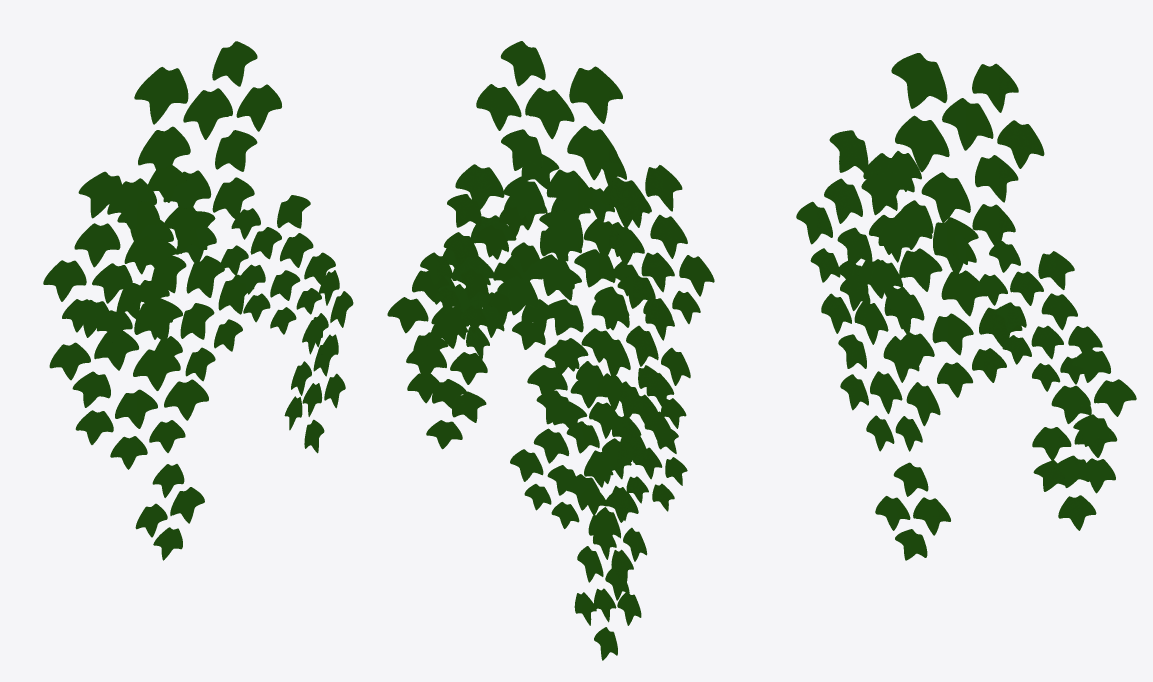
Rendered from Prop_Vine1.glb.
3 renders of one model, left to right at view 1: azimuth 30°, elevation 25°; view 2: azimuth 150°, elevation 25°; view 3: azimuth 330°, elevation 25°, orthographic. The views are drawn at different scales.
Visible parts, largest first — view 1: Prop_Vine1; view 2: Prop_Vine1; view 3: Prop_Vine1.
Part boxes in pixels (x1,y1,x2,y2): Prop_Vine1: (43, 41, 353, 560); Prop_Vine1: (387, 41, 714, 660); Prop_Vine1: (796, 53, 1136, 560).
Size of the model in its own units: 1.54 by 2.6 by 0.219.
Materials: 1 (1 with a texture image).
